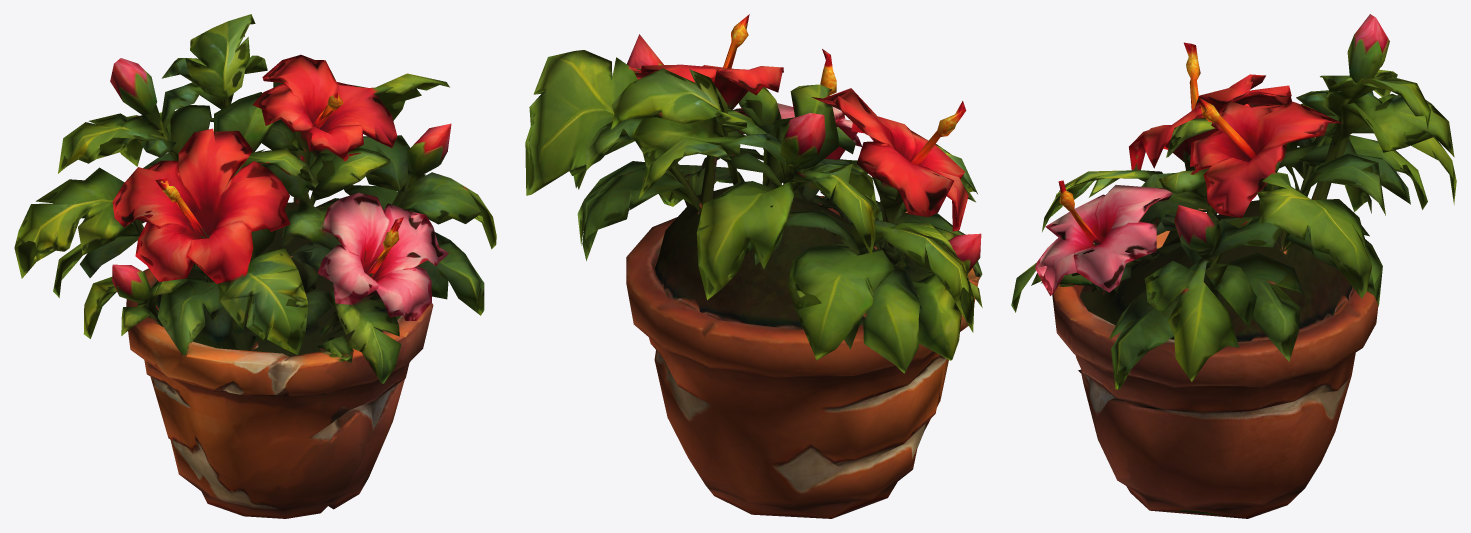
Rendered from planter-flowers-v2-lod.glb.
3 views of the same model, side by side, from view 1: azimuth 30°, elevation 25°; view 2: azimuth 150°, elevation 25°; view 3: azimuth 270°, elevation 25° (orthographic). The views are drawn at different scales.
Visible parts, largest first — view 1: tripo_node_6b65fc43-74d8-4e5e-b36f-7a21d4cb085b; view 2: tripo_node_6b65fc43-74d8-4e5e-b36f-7a21d4cb085b; view 3: tripo_node_6b65fc43-74d8-4e5e-b36f-7a21d4cb085b.
Part boxes in pixels (x1,y1,x2,y2): tripo_node_6b65fc43-74d8-4e5e-b36f-7a21d4cb085b: [14, 14, 496, 518]; tripo_node_6b65fc43-74d8-4e5e-b36f-7a21d4cb085b: [525, 14, 982, 518]; tripo_node_6b65fc43-74d8-4e5e-b36f-7a21d4cb085b: [1011, 14, 1456, 518].
Bounding box in the file's own units: 0.9812 × 0.913 × 0.8579.
1 material, 1 textured.
